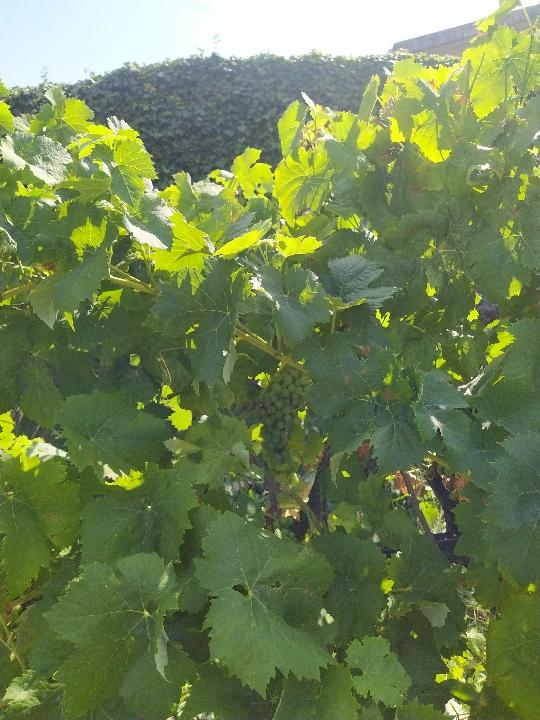grape: (250, 367, 312, 496)
